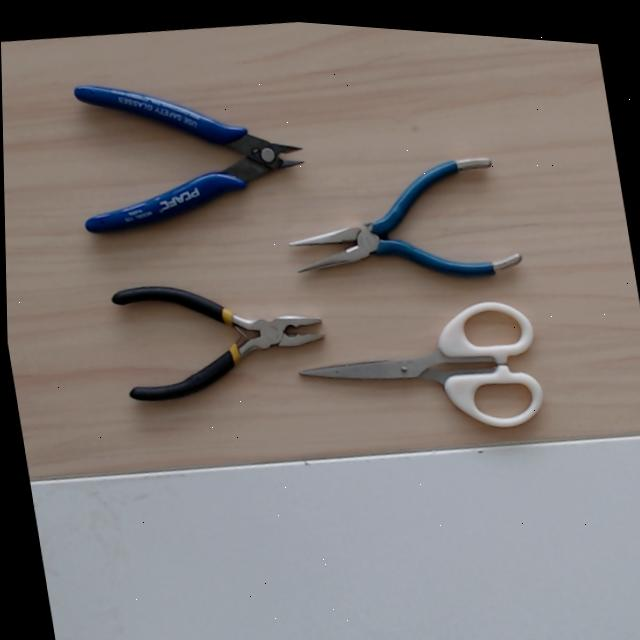Gunting: (297, 256, 565, 439)
Tang-Jepit-Biru: (279, 149, 525, 334)
Tang-Jepit-Hitam: (110, 254, 332, 406)
Tang-Potong-Biru: (72, 79, 306, 233)
